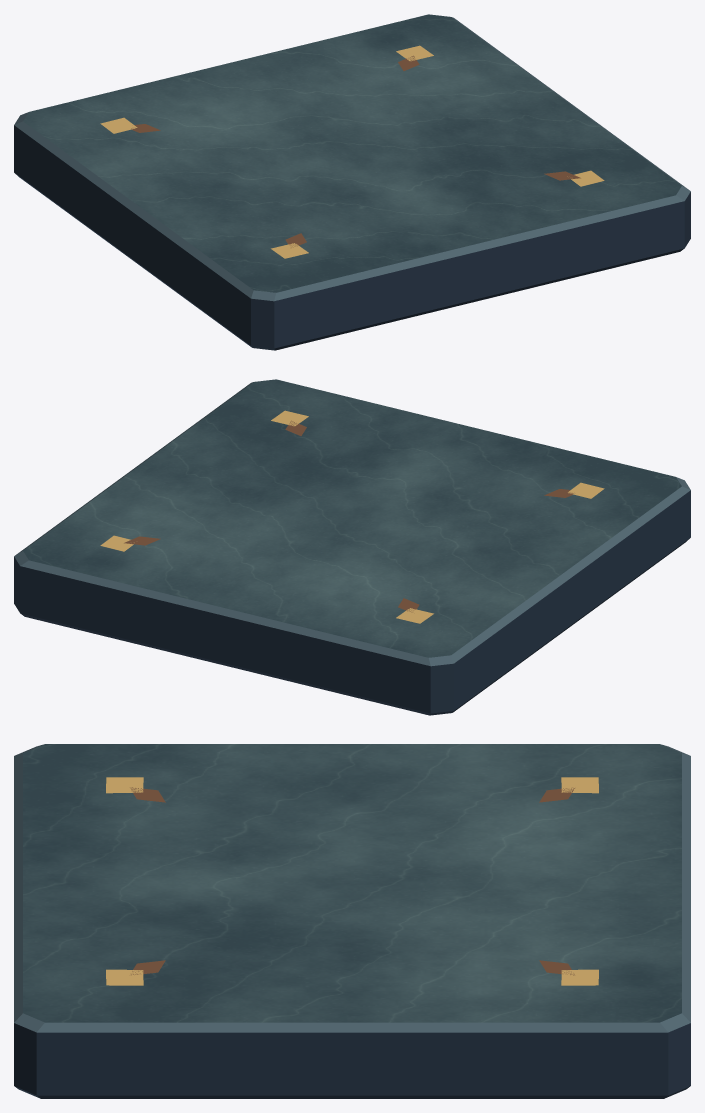
Rendered from SurveyPaver_1m.glb.
3 renders of one model, top to bottom at view 1: azimuth 30°, elevation 25°; view 2: azimuth 150°, elevation 25°; view 3: azimuth 270°, elevation 25°, orthographic. The views are drawn at different scales.
Parts seen in each view (by area): view 1: Survey Paver | 1 m brass fiducials; view 2: Survey Paver | 1 m brass fiducials; view 3: Survey Paver | 1 m brass fiducials.
Part boxes in pixels (x1,y1,x2,y2): Survey Paver | 1 m brass fiducials: (14, 14, 690, 350); Survey Paver | 1 m brass fiducials: (14, 379, 690, 715); Survey Paver | 1 m brass fiducials: (14, 744, 690, 1098).
Size of the model in its own units: 0.988 by 0.123 by 0.988.
5 materials, 1 textured.
